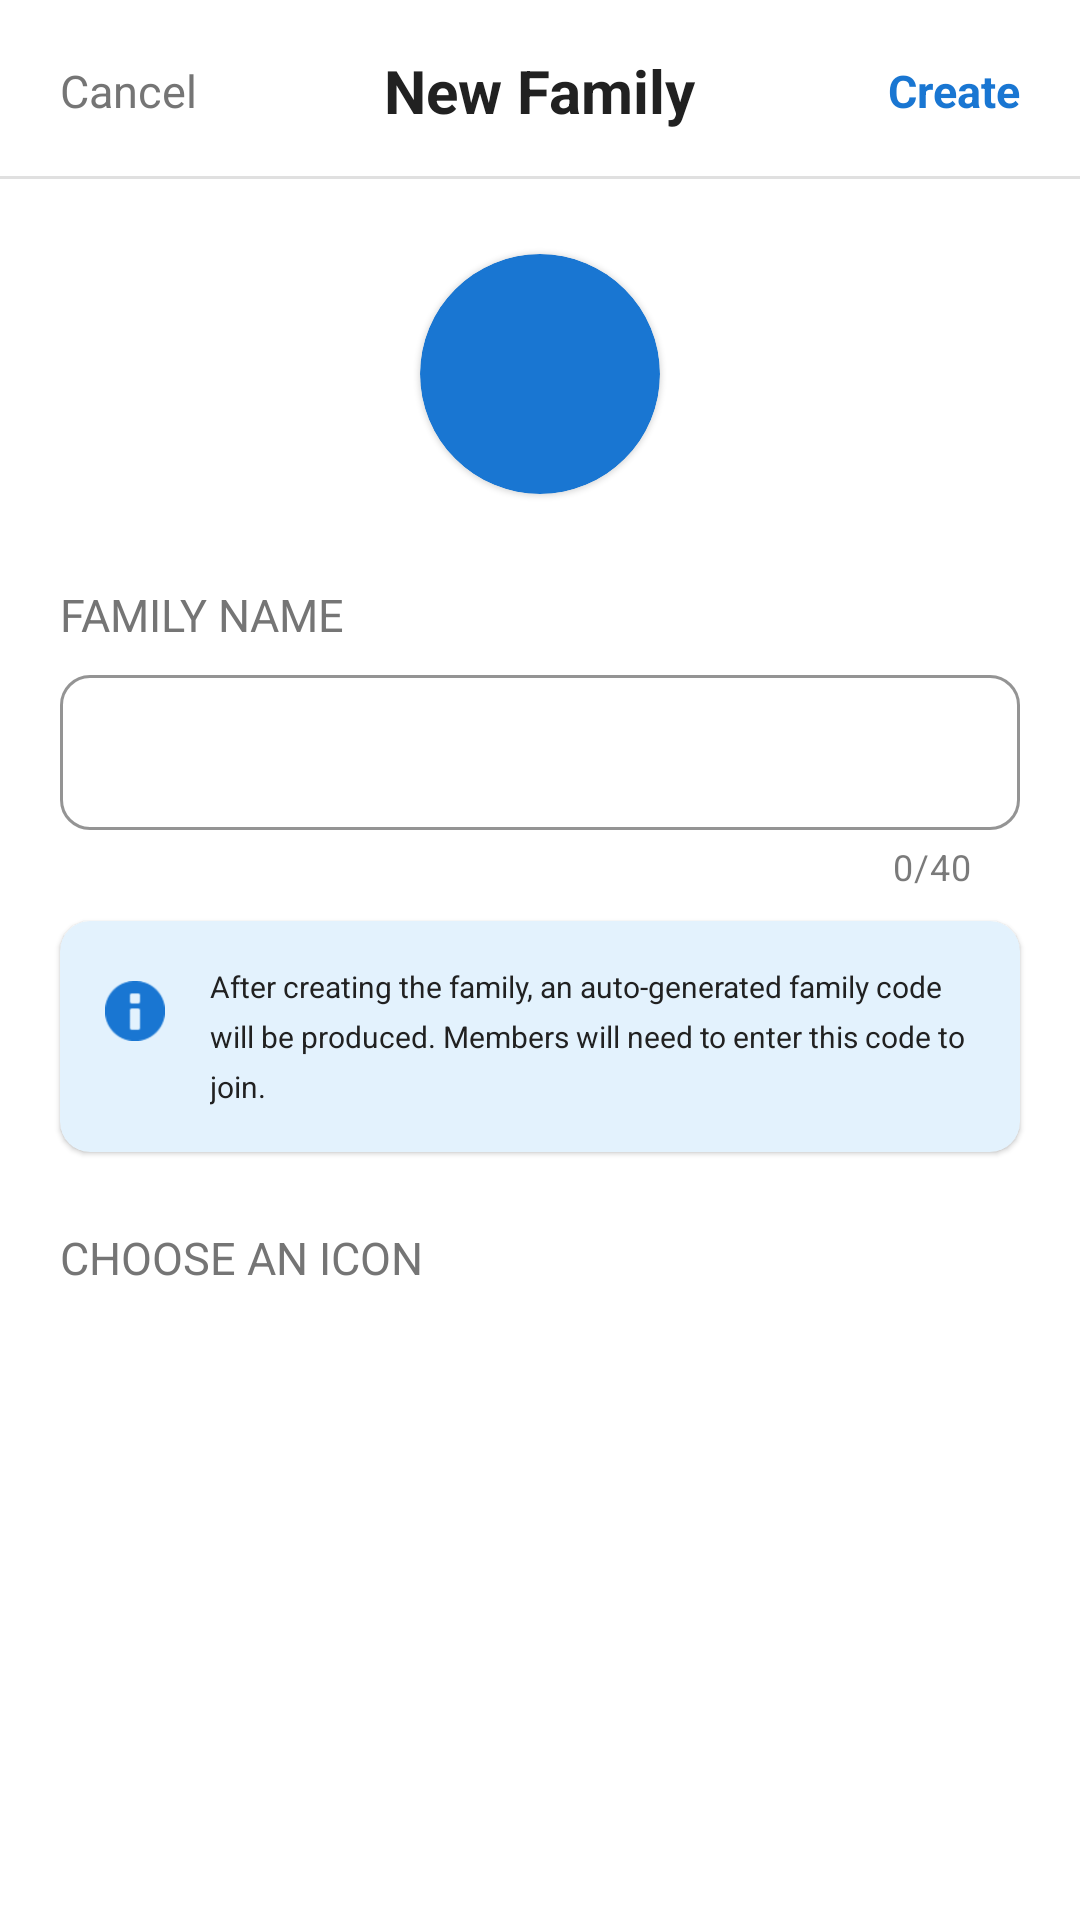

Icon click points for this 1080*1920 phone screenshot, format [x,y]:
info: [135,1011]
